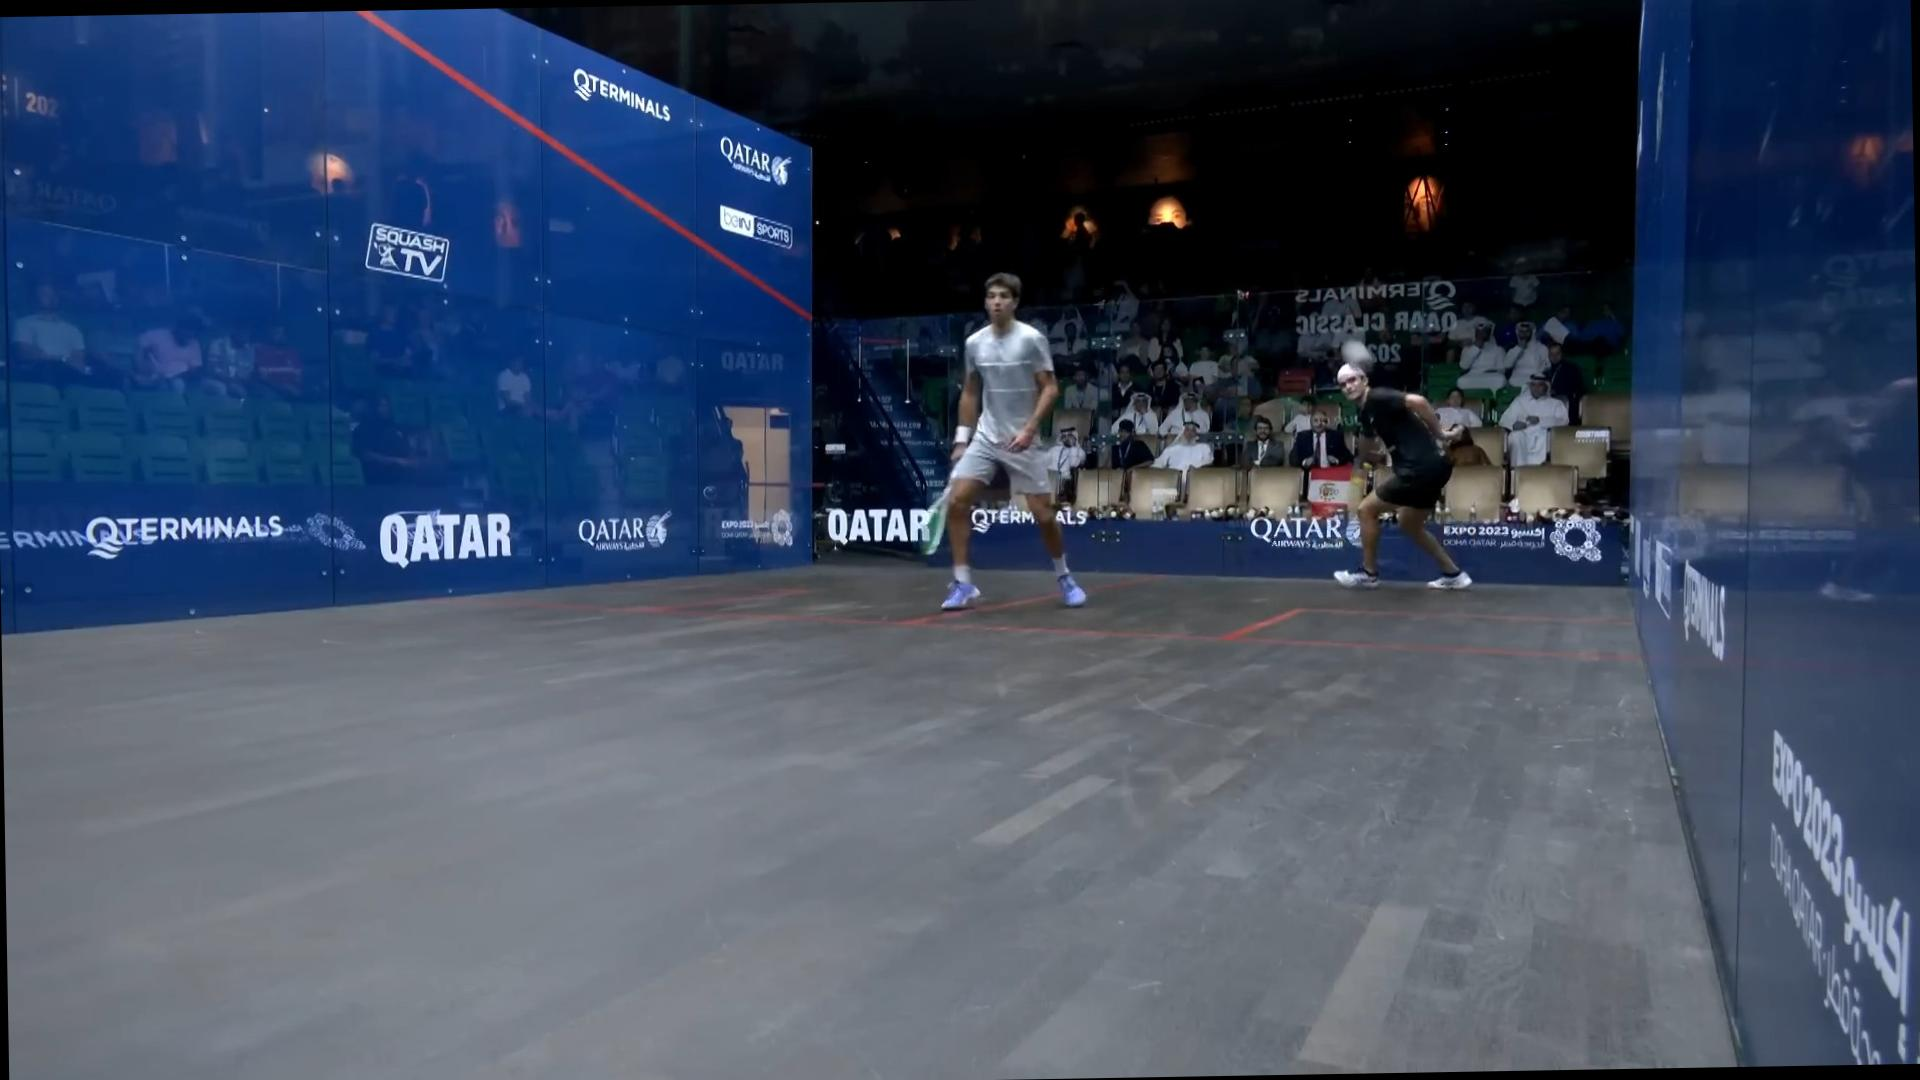Racket: (916, 465, 960, 558)
